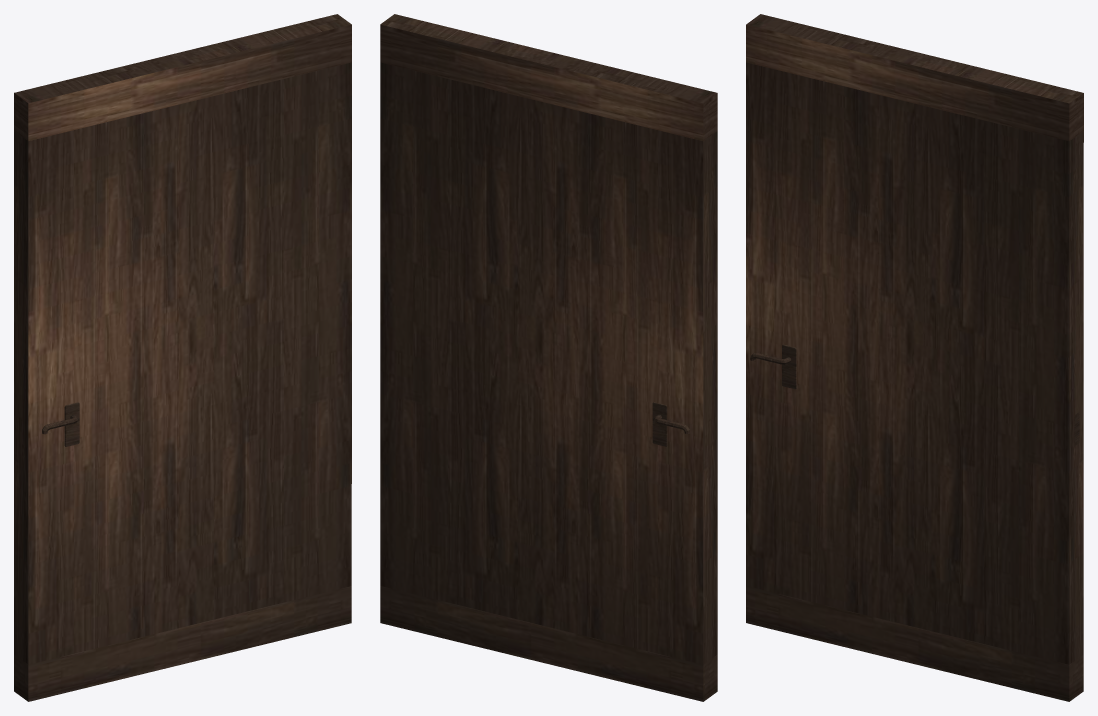
Rendered from puerta.obj.
3 renders of one model, left to right at view 1: azimuth 30°, elevation 25°; view 2: azimuth 150°, elevation 25°; view 3: azimuth 330°, elevation 25°, orthographic.
Parts seen in each view (by area): view 1: Mesh1 group16 initialShadingGroup1 pasted__group pasted__pasted_; view 2: Mesh1 group16 initialShadingGroup1 pasted__group pasted__pasted_; view 3: Mesh1 group16 initialShadingGroup1 pasted__group pasted__pasted_.
Boxes of the visible parts, left/top/right/bottom form: Mesh1 group16 initialShadingGroup1 pasted__group pasted__pasted_: left=14, top=14, right=351, bottom=701; Mesh1 group16 initialShadingGroup1 pasted__group pasted__pasted_: left=380, top=14, right=717, bottom=701; Mesh1 group16 initialShadingGroup1 pasted__group pasted__pasted_: left=746, top=14, right=1083, bottom=701.
Bounding box in the file's own units: 169 × 299 × 23.84.
Materials: 1 (1 with a texture image).
